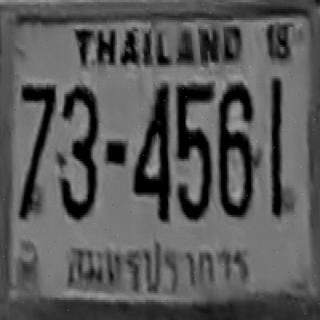N01: (269, 77, 285, 216)
N03: (56, 83, 98, 217)
N04: (131, 82, 170, 218)
N05: (175, 82, 212, 218)
N06: (217, 82, 254, 216)
N07: (18, 83, 54, 217)
P57: (63, 235, 259, 298)
